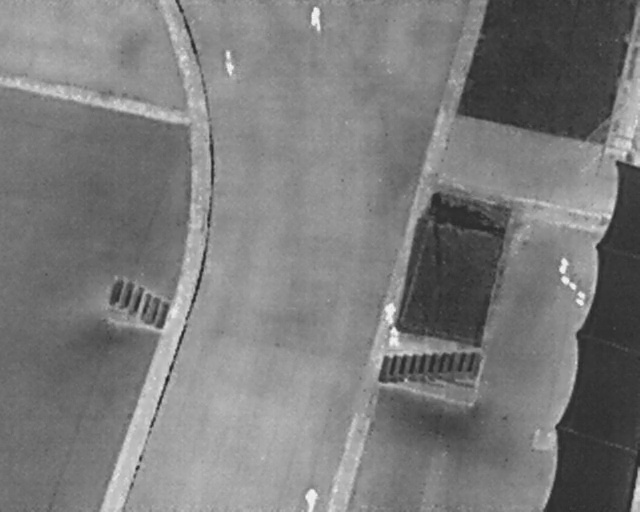Person: (222, 49, 236, 77), (304, 487, 320, 511), (308, 7, 323, 31), (389, 327, 401, 347), (385, 301, 395, 323)
